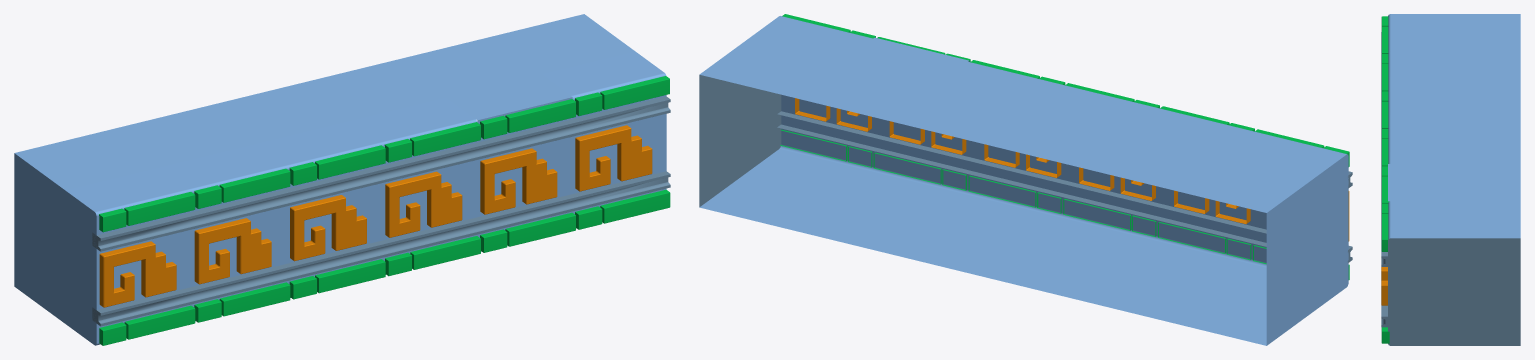
File: Wall_04_Decor_01.fbx
3 renders of one model, left to right at view 1: azimuth 30°, elevation 25°; view 2: azimuth 150°, elevation 25°; view 3: azimuth 270°, elevation 25°, orthographic. The views are drawn at different scales.
Parts seen in each view (by area): view 1: Wall_04_DECOR_02; view 2: Wall_04_DECOR_02; view 3: Wall_04_DECOR_02.
Part boxes in pixels (<box>): Wall_04_DECOR_02: <box>14,14,670,345</box>; Wall_04_DECOR_02: <box>699,14,1352,345</box>; Wall_04_DECOR_02: <box>1381,14,1520,345</box>.
Bounding box in the file's own units: 200 × 44.76 × 52.5.
